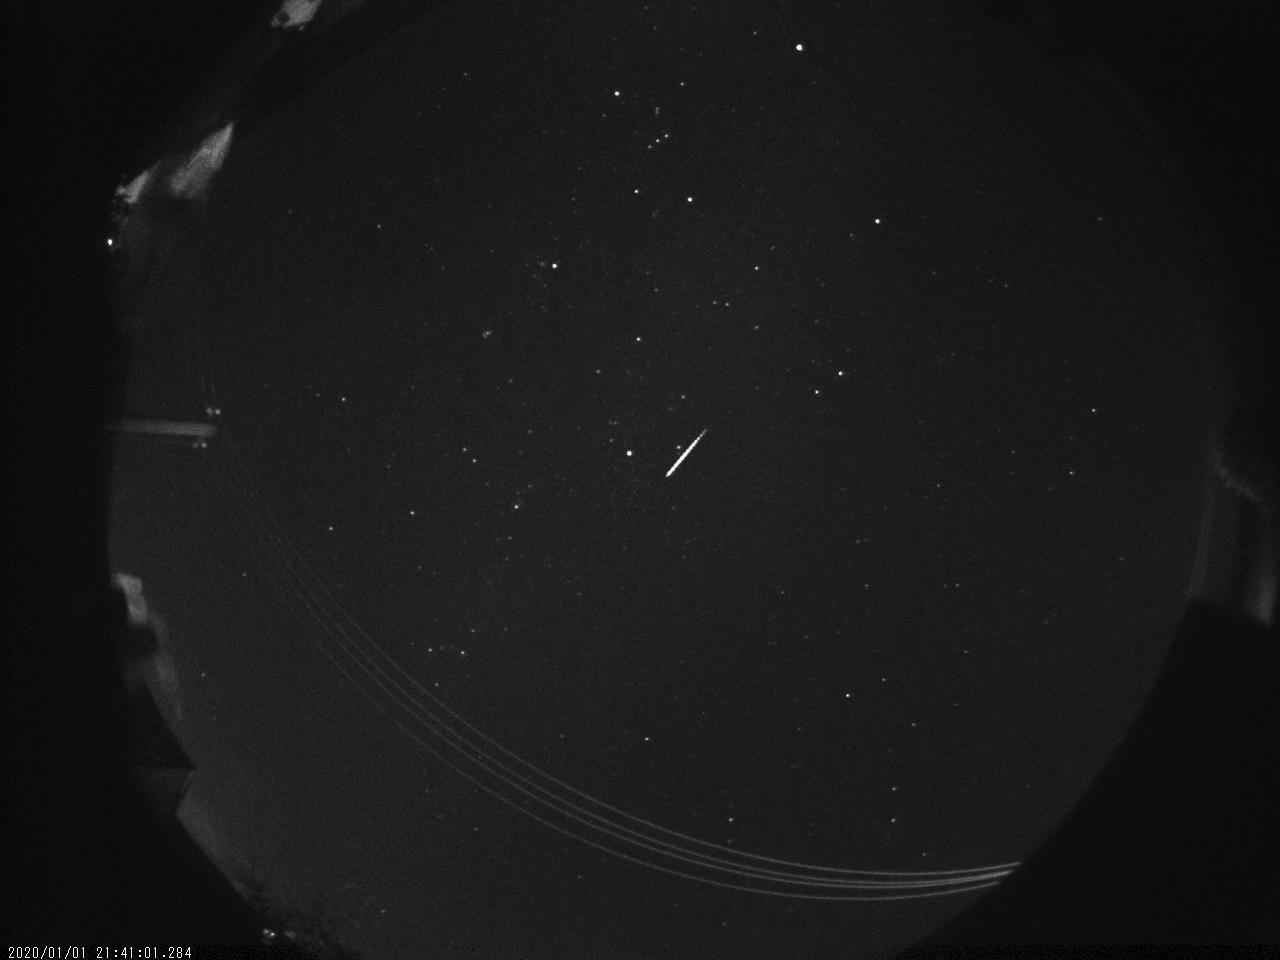Meteor: (663, 425, 709, 479)
